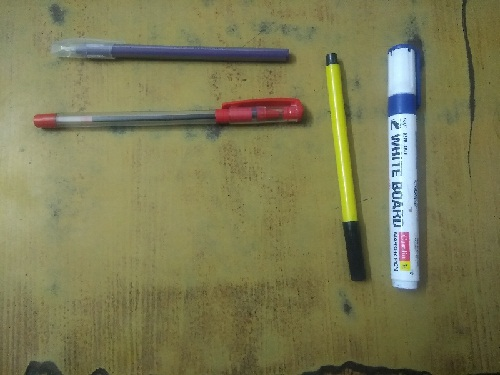pen: (28, 92, 306, 136), (380, 39, 427, 294), (321, 47, 370, 284), (41, 35, 295, 70)
